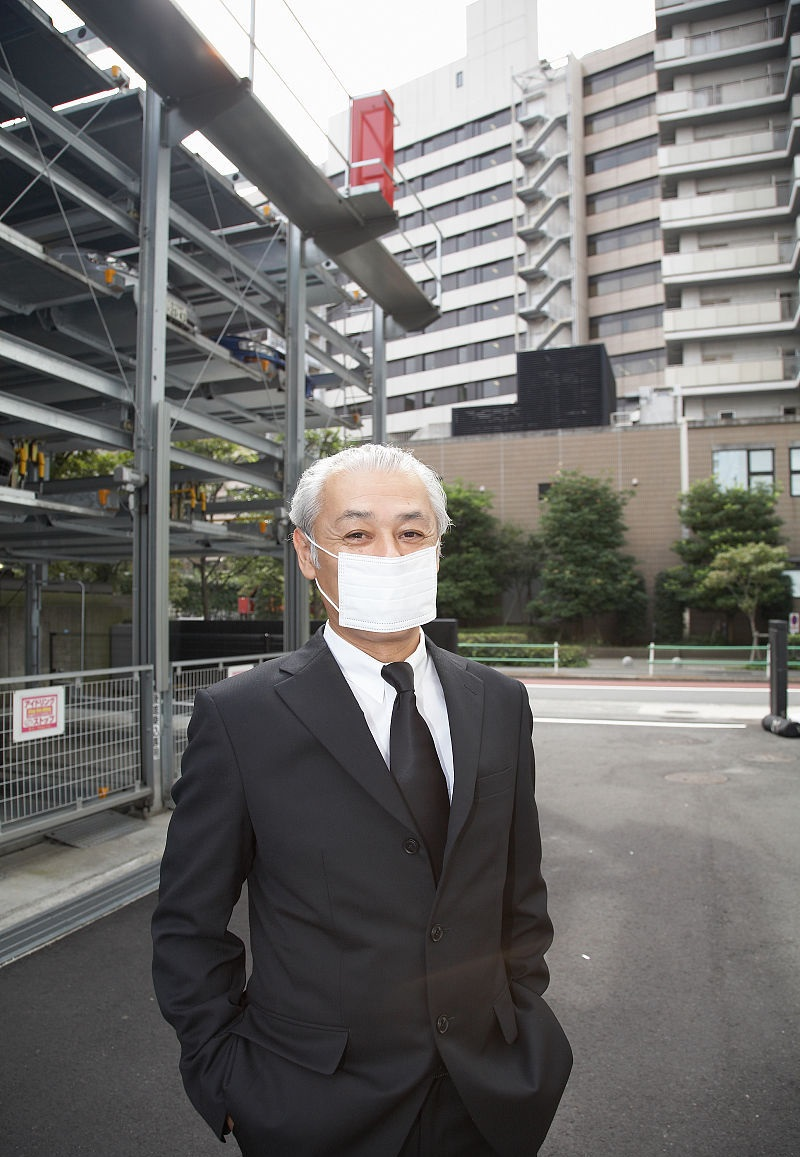face_mask: (319, 478, 434, 635)
